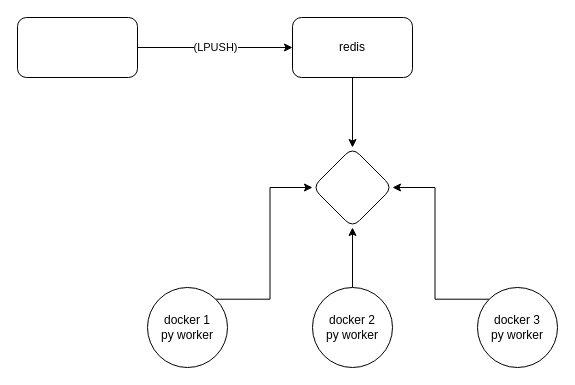
Some shapes in this 575 by 385 pixel diagram are drawn without their labels. The shapes that lost their labels are listed below. From the top down, each one's box as (x1, y1, x2, y2) in pixels, then its label:
(16, 16, 138, 78): n8n
(312, 146, 392, 228): BRPOP
